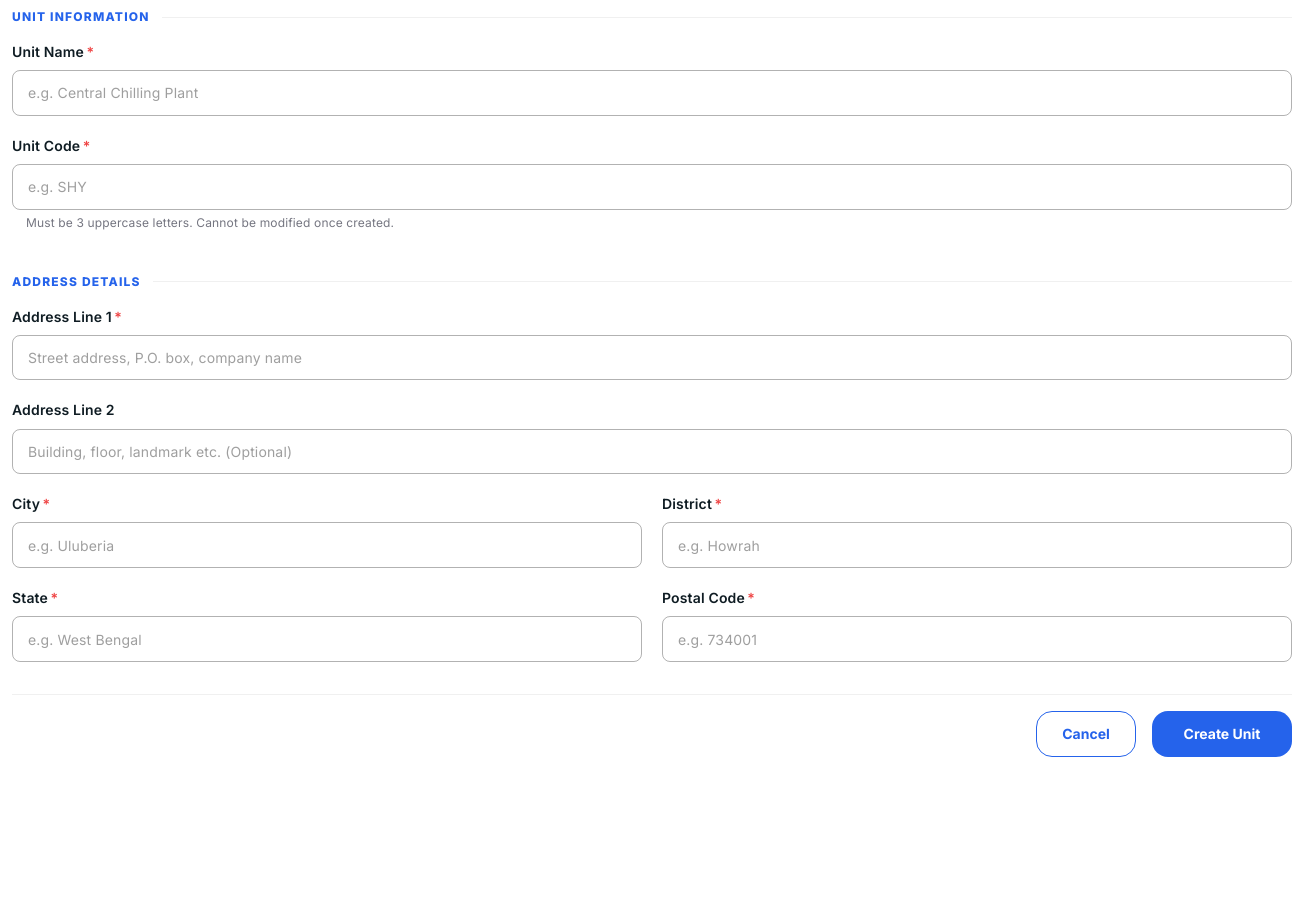
Test: UnitForm › shows validation errors for required fields
Step 1. Click the button "Create Unit" → (1222, 734), box [1152,711,1292,757]
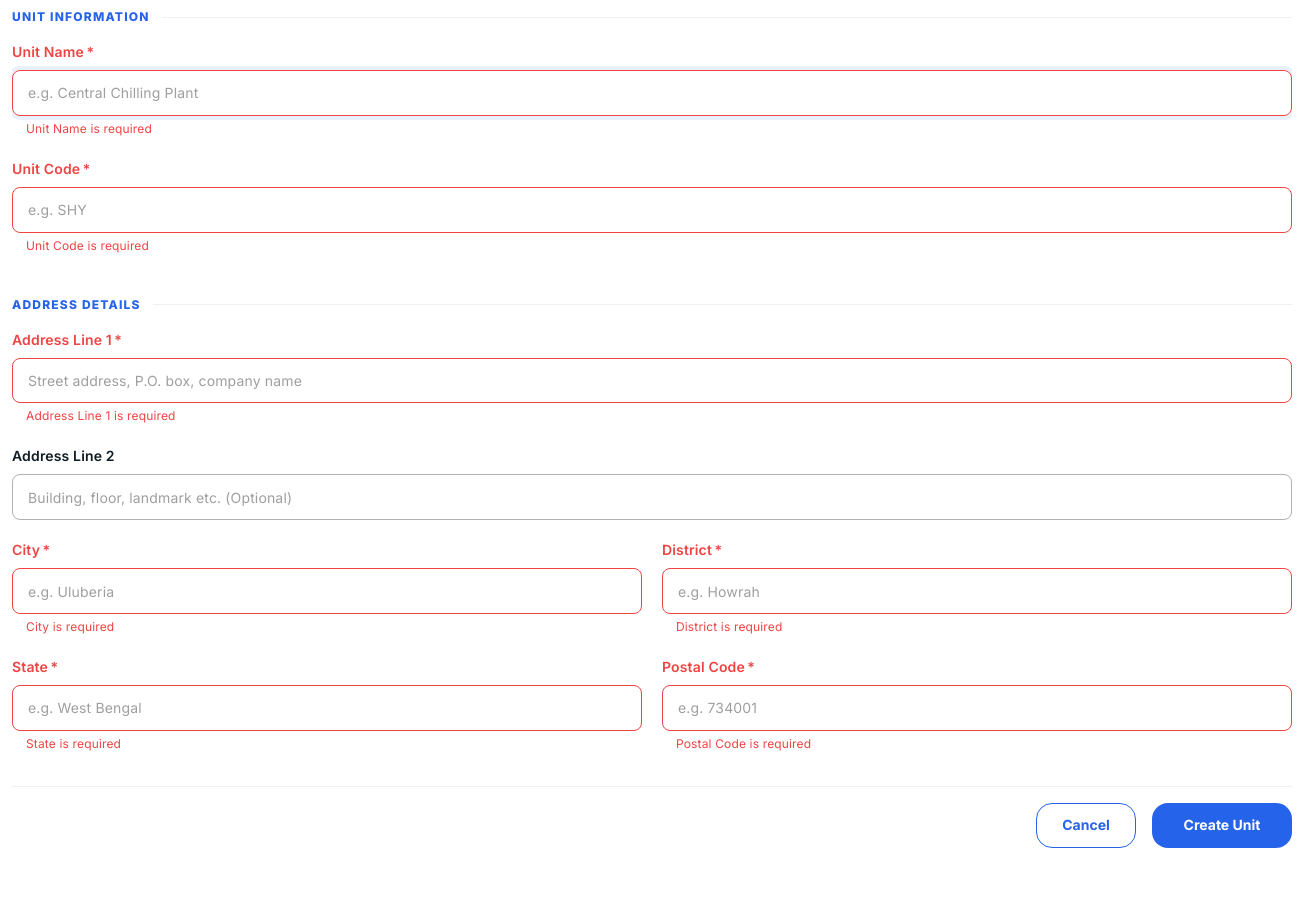
Result: the text "Unit Name is required" is shown at [26,121,152,136]
Result: the text "Unit Code is required" is shown at [26,238,149,253]
Result: the text "Address Line 1 is required" is shown at [26,408,176,423]
